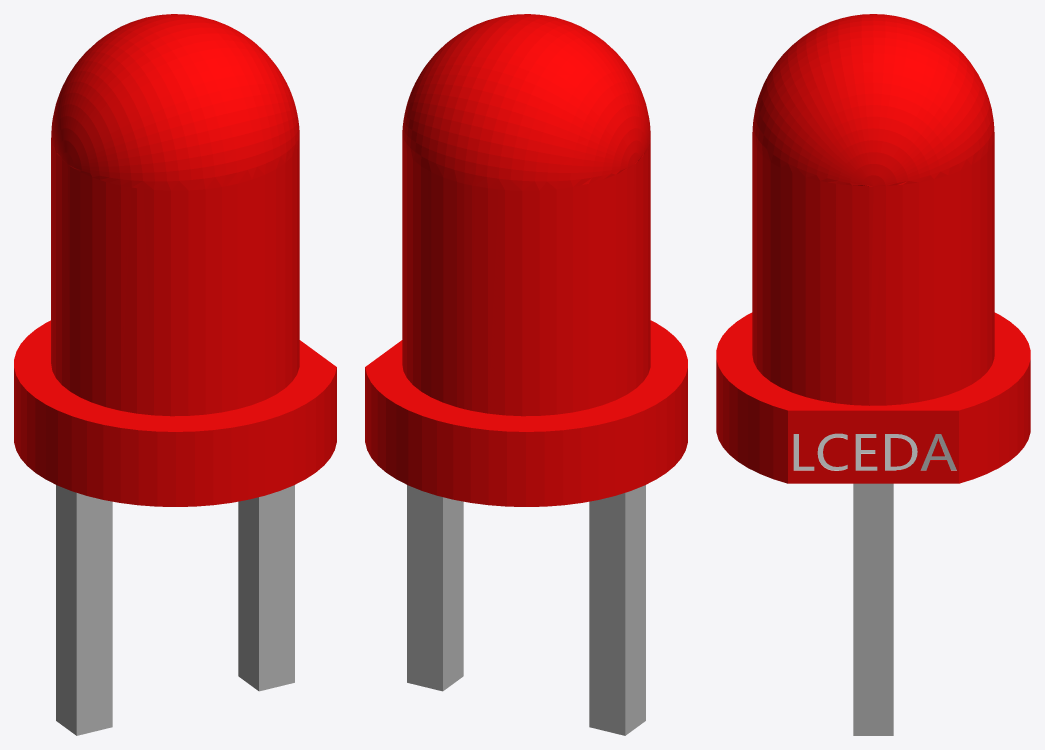
File: ir-led-ir204.glb
3 views of the same model, side by side, from view 1: azimuth 30°, elevation 25°; view 2: azimuth 150°, elevation 25°; view 3: azimuth 270°, elevation 25° (orthographic). The views are drawn at different scales.
Size of the model in its own units: 3.59 by 9 by 3.89.
